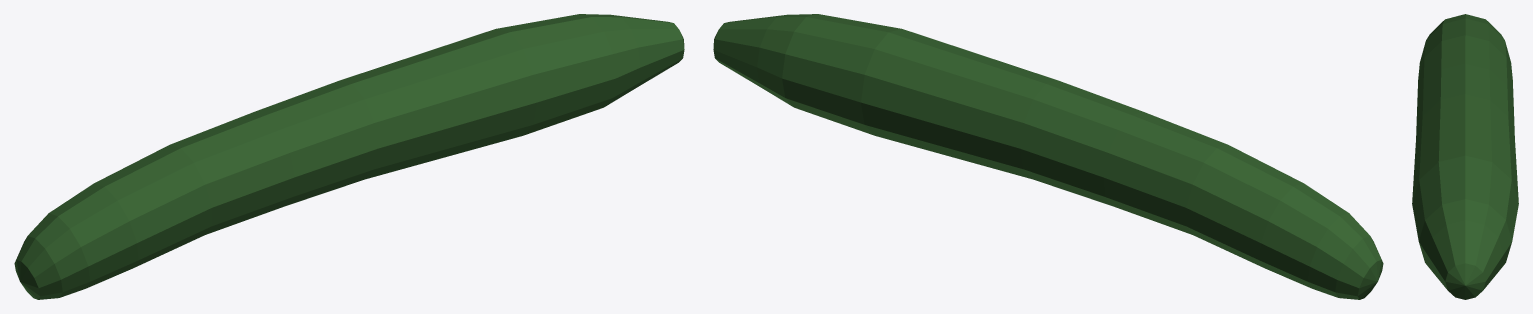
The model's file is Cucumber.fbx.
3 views of the same model, side by side, from view 1: azimuth 30°, elevation 25°; view 2: azimuth 150°, elevation 25°; view 3: azimuth 270°, elevation 25° (orthographic). The views are drawn at different scales.
Visible parts, largest first — view 1: Cucumber; view 2: Cucumber; view 3: Cucumber.
Part boxes in pixels (left/top/right/bottom): Cucumber: left=14, top=14, right=684, bottom=299; Cucumber: left=713, top=14, right=1383, bottom=299; Cucumber: left=1412, top=14, right=1518, bottom=299.
Size of the model in its own units: 1166 by 254 by 168.
